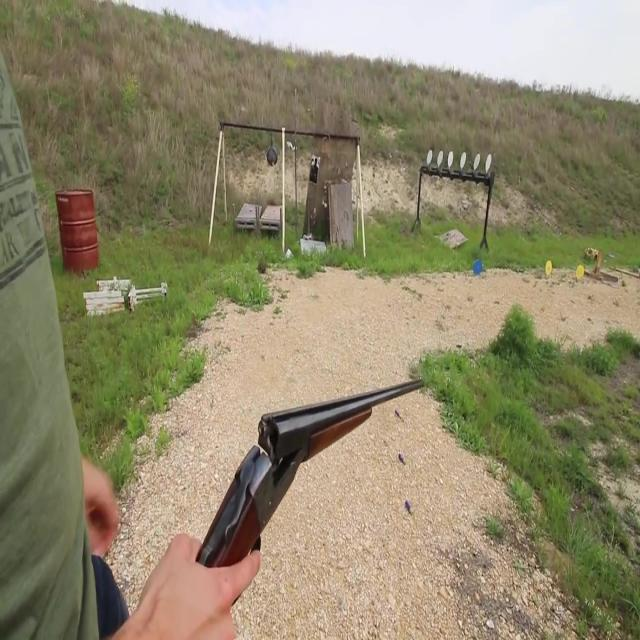Weapon: (148, 347, 472, 640)
